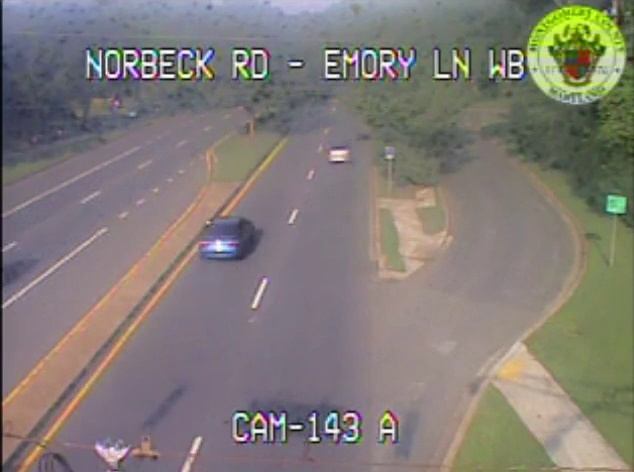car: (198, 216, 252, 261), (327, 145, 349, 161)
